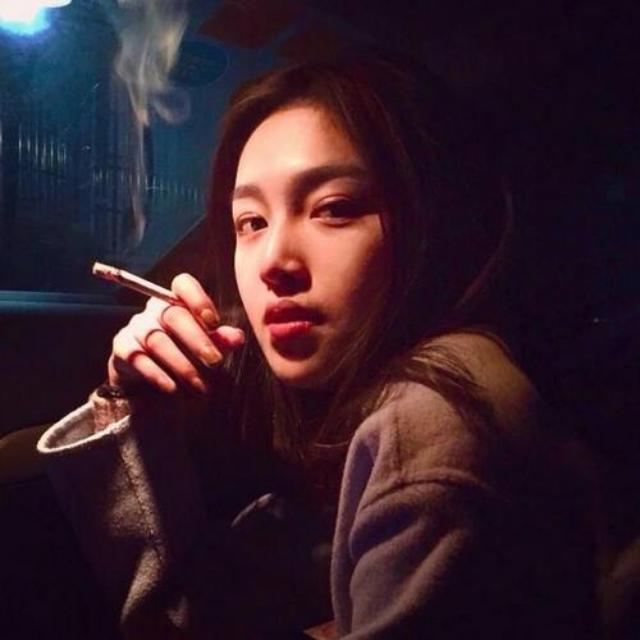SafeDriving: (302, 182, 371, 234), (230, 193, 276, 243)
Smoking: (86, 256, 174, 308)
